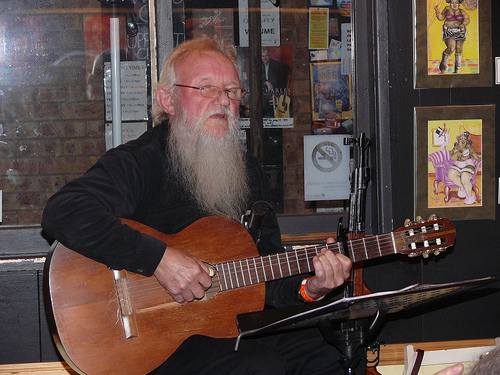guitar: (52, 214, 465, 375)
